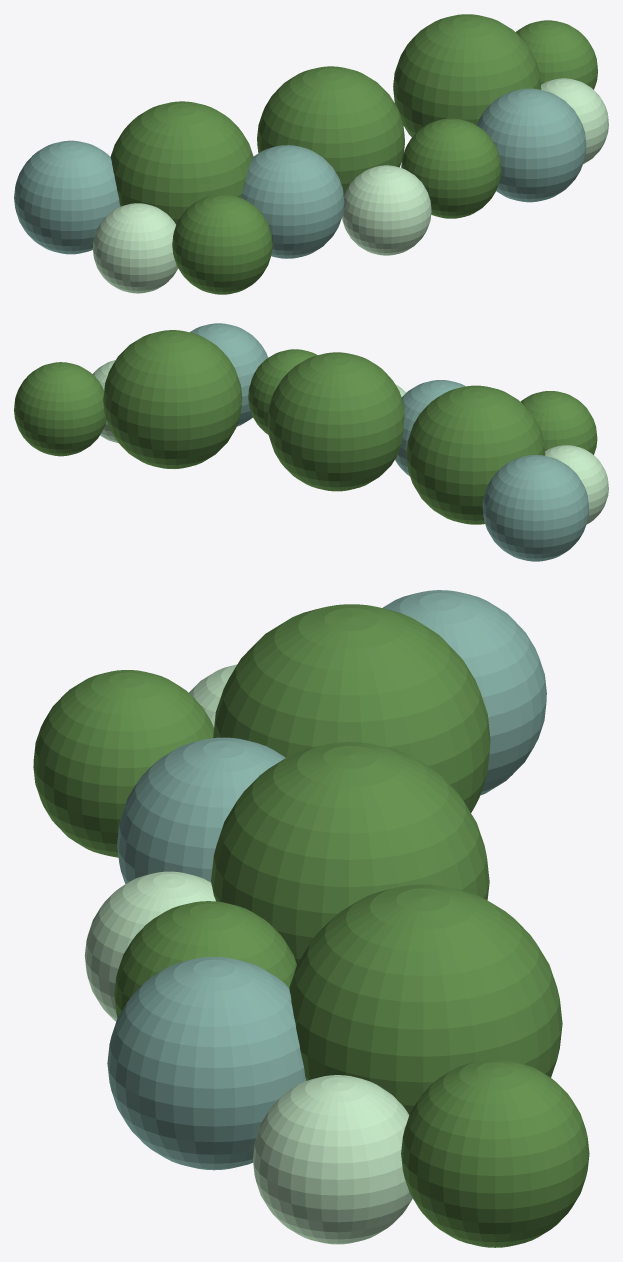
File: Bolas.fbx
3 views of the same model, one above another, from view 1: azimuth 30°, elevation 25°; view 2: azimuth 150°, elevation 25°; view 3: azimuth 270°, elevation 25° (orthographic). The views are drawn at different scales.
Parts seen in each view (by area): view 1: Cube.010; view 2: Cube.010; view 3: Cube.010.
Boxes of the visible parts, x1,y1,x2,y2 form: Cube.010: (14, 14, 608, 294); Cube.010: (14, 323, 608, 561); Cube.010: (33, 590, 589, 1247).
Bounding box in the file's own units: 360 × 85.88 × 158.
